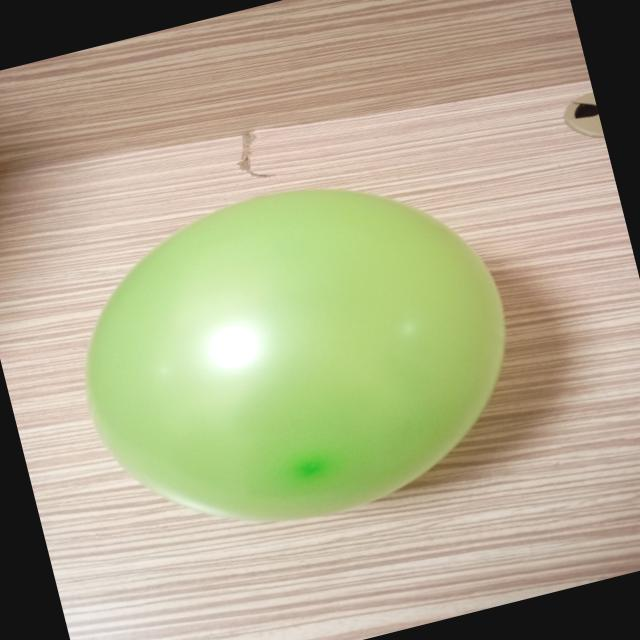balloon: (86, 189, 505, 520)
